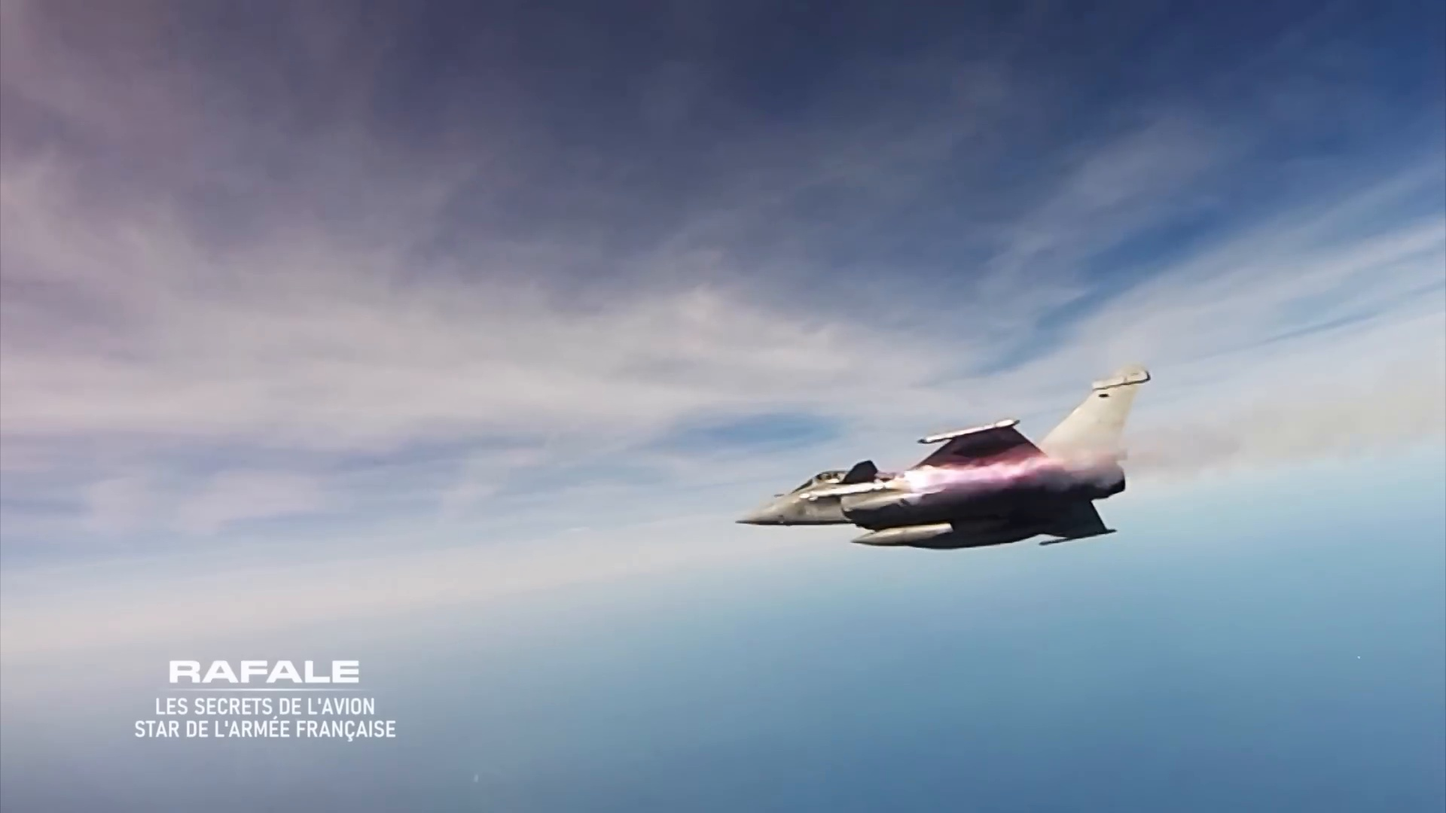Rafale: (716, 364, 1156, 564)
